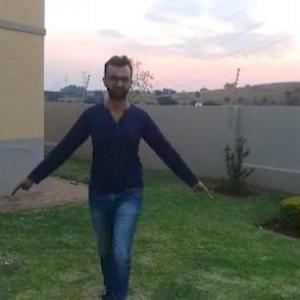land: (31, 57, 192, 274)
